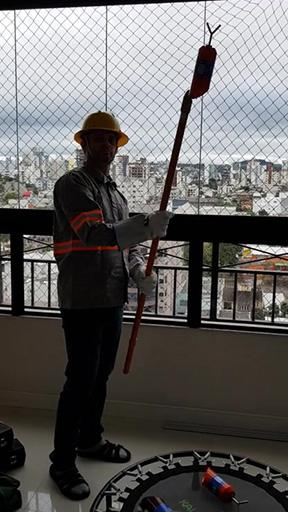Detector_Tensao_Contato: (188, 22, 222, 98)
Vara_Manobra: (123, 95, 192, 374)
